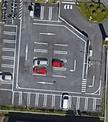parkingspot: (11, 91, 103, 113), (0, 23, 18, 92), (32, 42, 50, 77), (51, 44, 68, 79), (32, 2, 60, 22)
